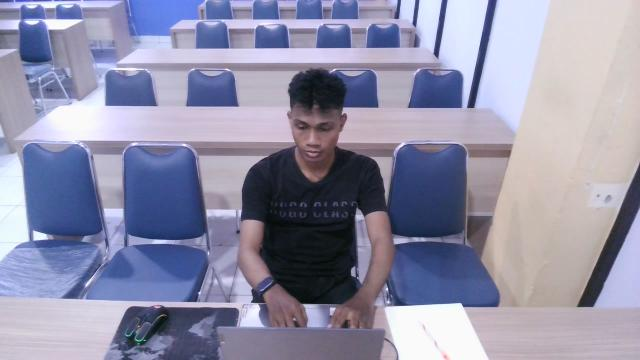Normal_Focus: (216, 62, 416, 360)
